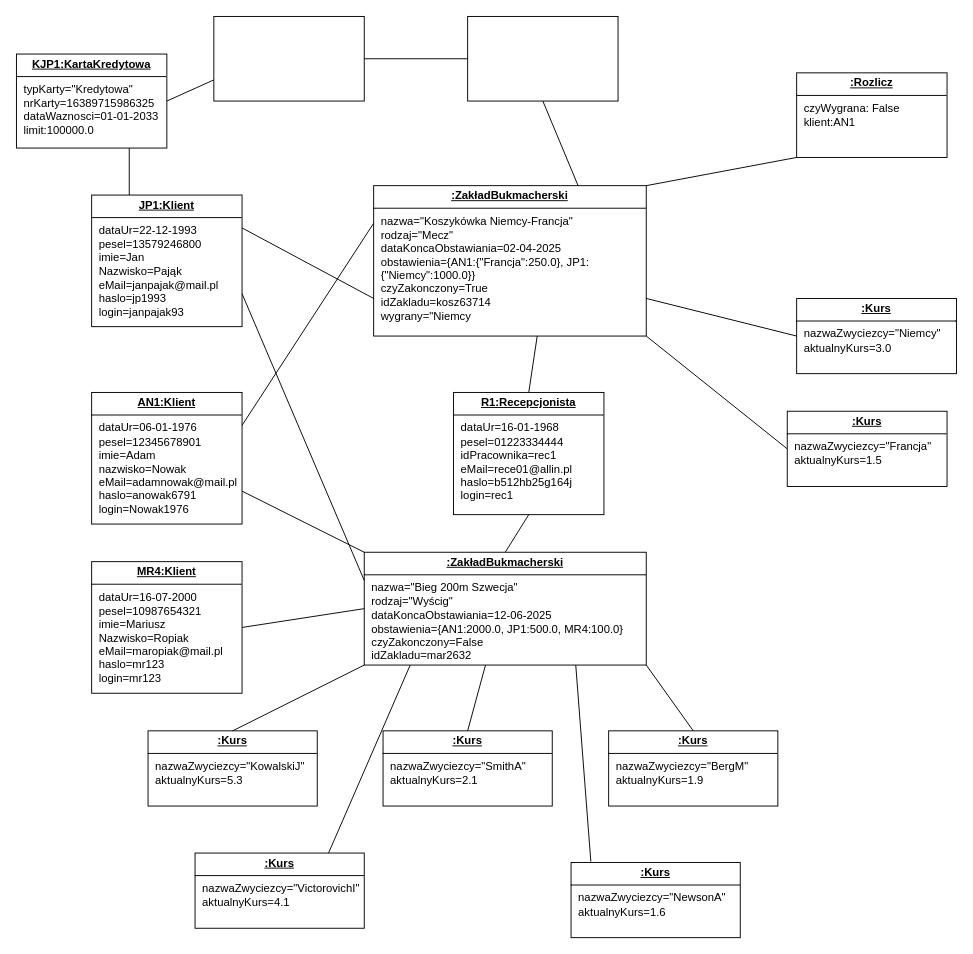
Image size: 973x954. Some labels were removed from this diagram. The shapes that lost their labels are listed below. From the top down, each one's centre as x and y in pixels, then its label:
At [288,58]: ":Wyplac nrTransakcji=54628 dataTransakcji=03-04-2025".
At [542,58]: ":Rozlicz czyWygrana: True klient:JP1".
